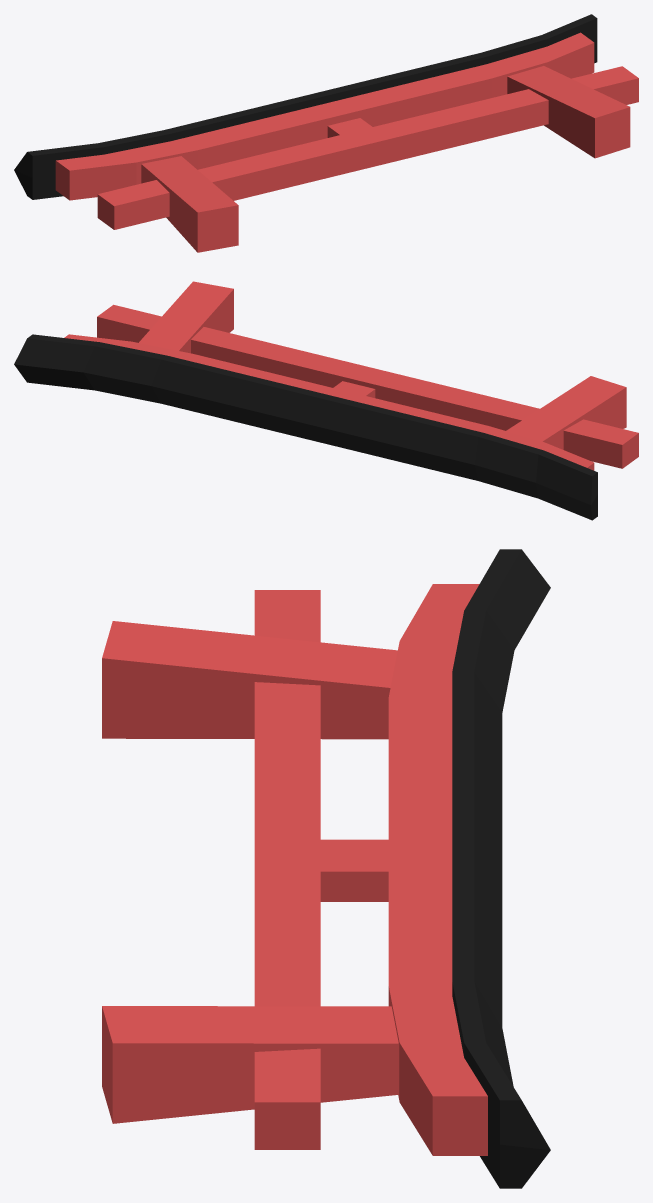
File: barrier.fbx
3 views of the same model, one above another, from view 1: azimuth 30°, elevation 25°; view 2: azimuth 150°, elevation 25°; view 3: azimuth 270°, elevation 25° (orthographic). The views are drawn at different scales.
Parts seen in each view (by area): view 1: Cube.001; view 2: Cube.001; view 3: Cube.001.
Part boxes in pixels (bbox=[...]): Cube.001: bbox=[14, 14, 638, 252]; Cube.001: bbox=[14, 281, 638, 520]; Cube.001: bbox=[102, 549, 550, 1188].
Bounding box in the file's own units: 1204 × 88.15 × 406.
